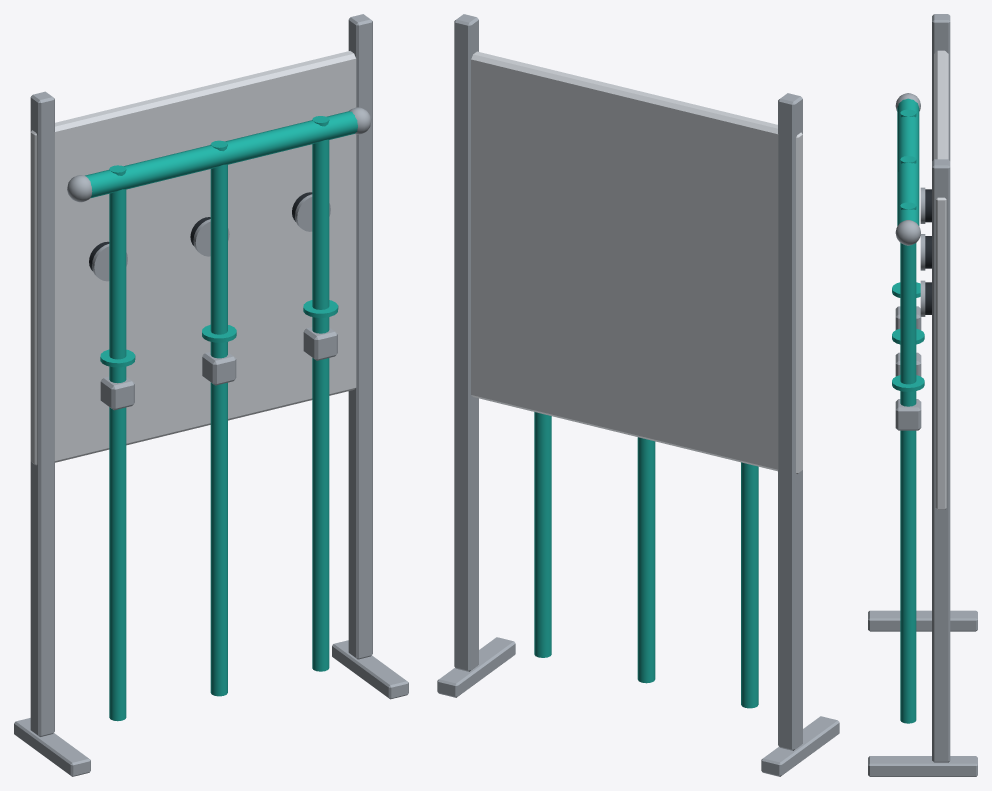
The model's file is valve-manifold-panel.glb.
3 renders of one model, left to right at view 1: azimuth 30°, elevation 25°; view 2: azimuth 150°, elevation 25°; view 3: azimuth 270°, elevation 25°, orthographic. The views are drawn at different scales.
Parts seen in each view (by area): view 1: valve-manifold-panel; view 2: valve-manifold-panel; view 3: valve-manifold-panel.
Boxes of the visible parts, x1=… form: valve-manifold-panel: x1=14, y1=14, x2=408, y2=776; valve-manifold-panel: x1=437, y1=14, x2=839, y2=776; valve-manifold-panel: x1=868, y1=14, x2=977, y2=776.
Size of the model in its own units: 1 by 1.84 by 0.3.
